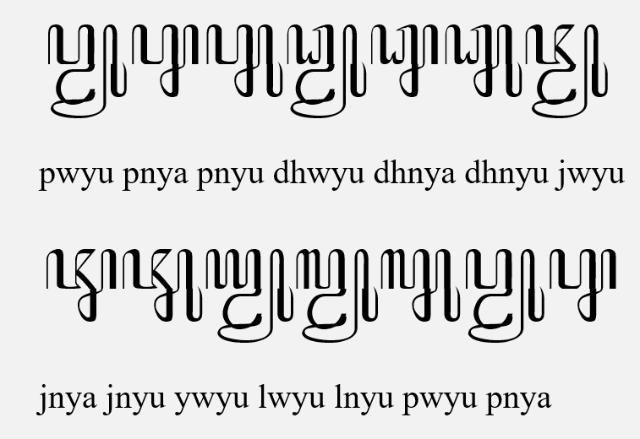dhny: (371, 24, 439, 98)
dhnyu: (443, 24, 522, 98)
dhwyu: (286, 23, 368, 119)
jny: (44, 249, 118, 323)
jnyu: (122, 248, 204, 324)
jwyu: (525, 24, 609, 120)
lnyu: (380, 248, 460, 322)
lwyu: (295, 249, 379, 344)
pny: (130, 24, 200, 98), (549, 248, 617, 322)
pnyu: (205, 24, 283, 98)
pwyu: (46, 24, 128, 118), (465, 249, 545, 344)
ywyu: (206, 248, 294, 344)
